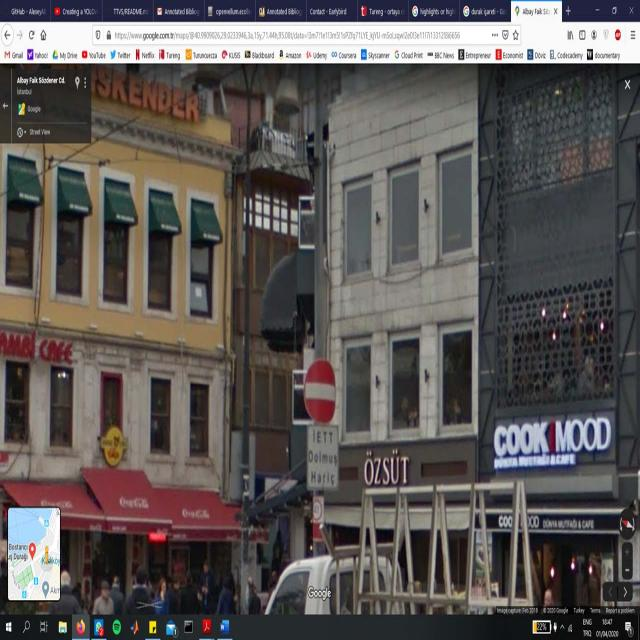girisyok: (305, 359, 337, 421)
